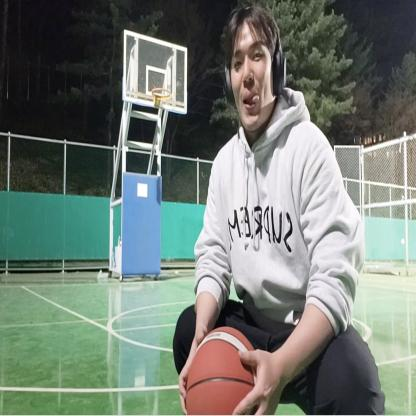streamer: (171, 4, 390, 416)
